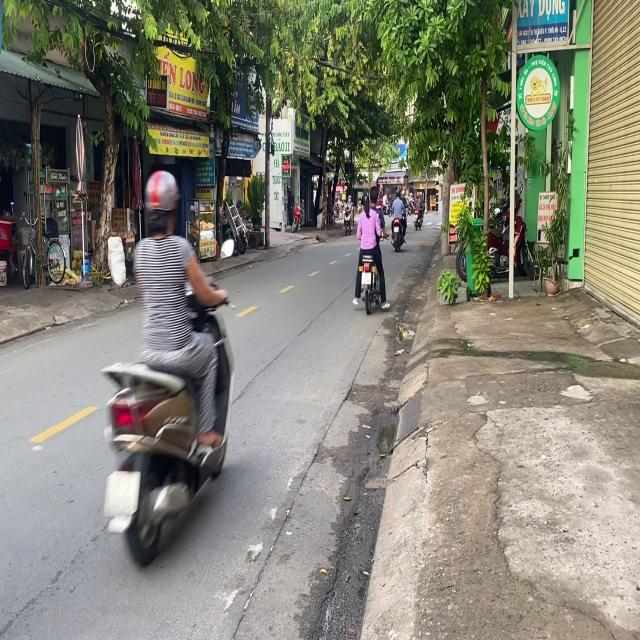helmet: (142, 168, 180, 234)
licenseplate: (96, 163, 236, 566), (352, 179, 388, 312)
nohelmet: (104, 470, 139, 515), (361, 272, 370, 284)
